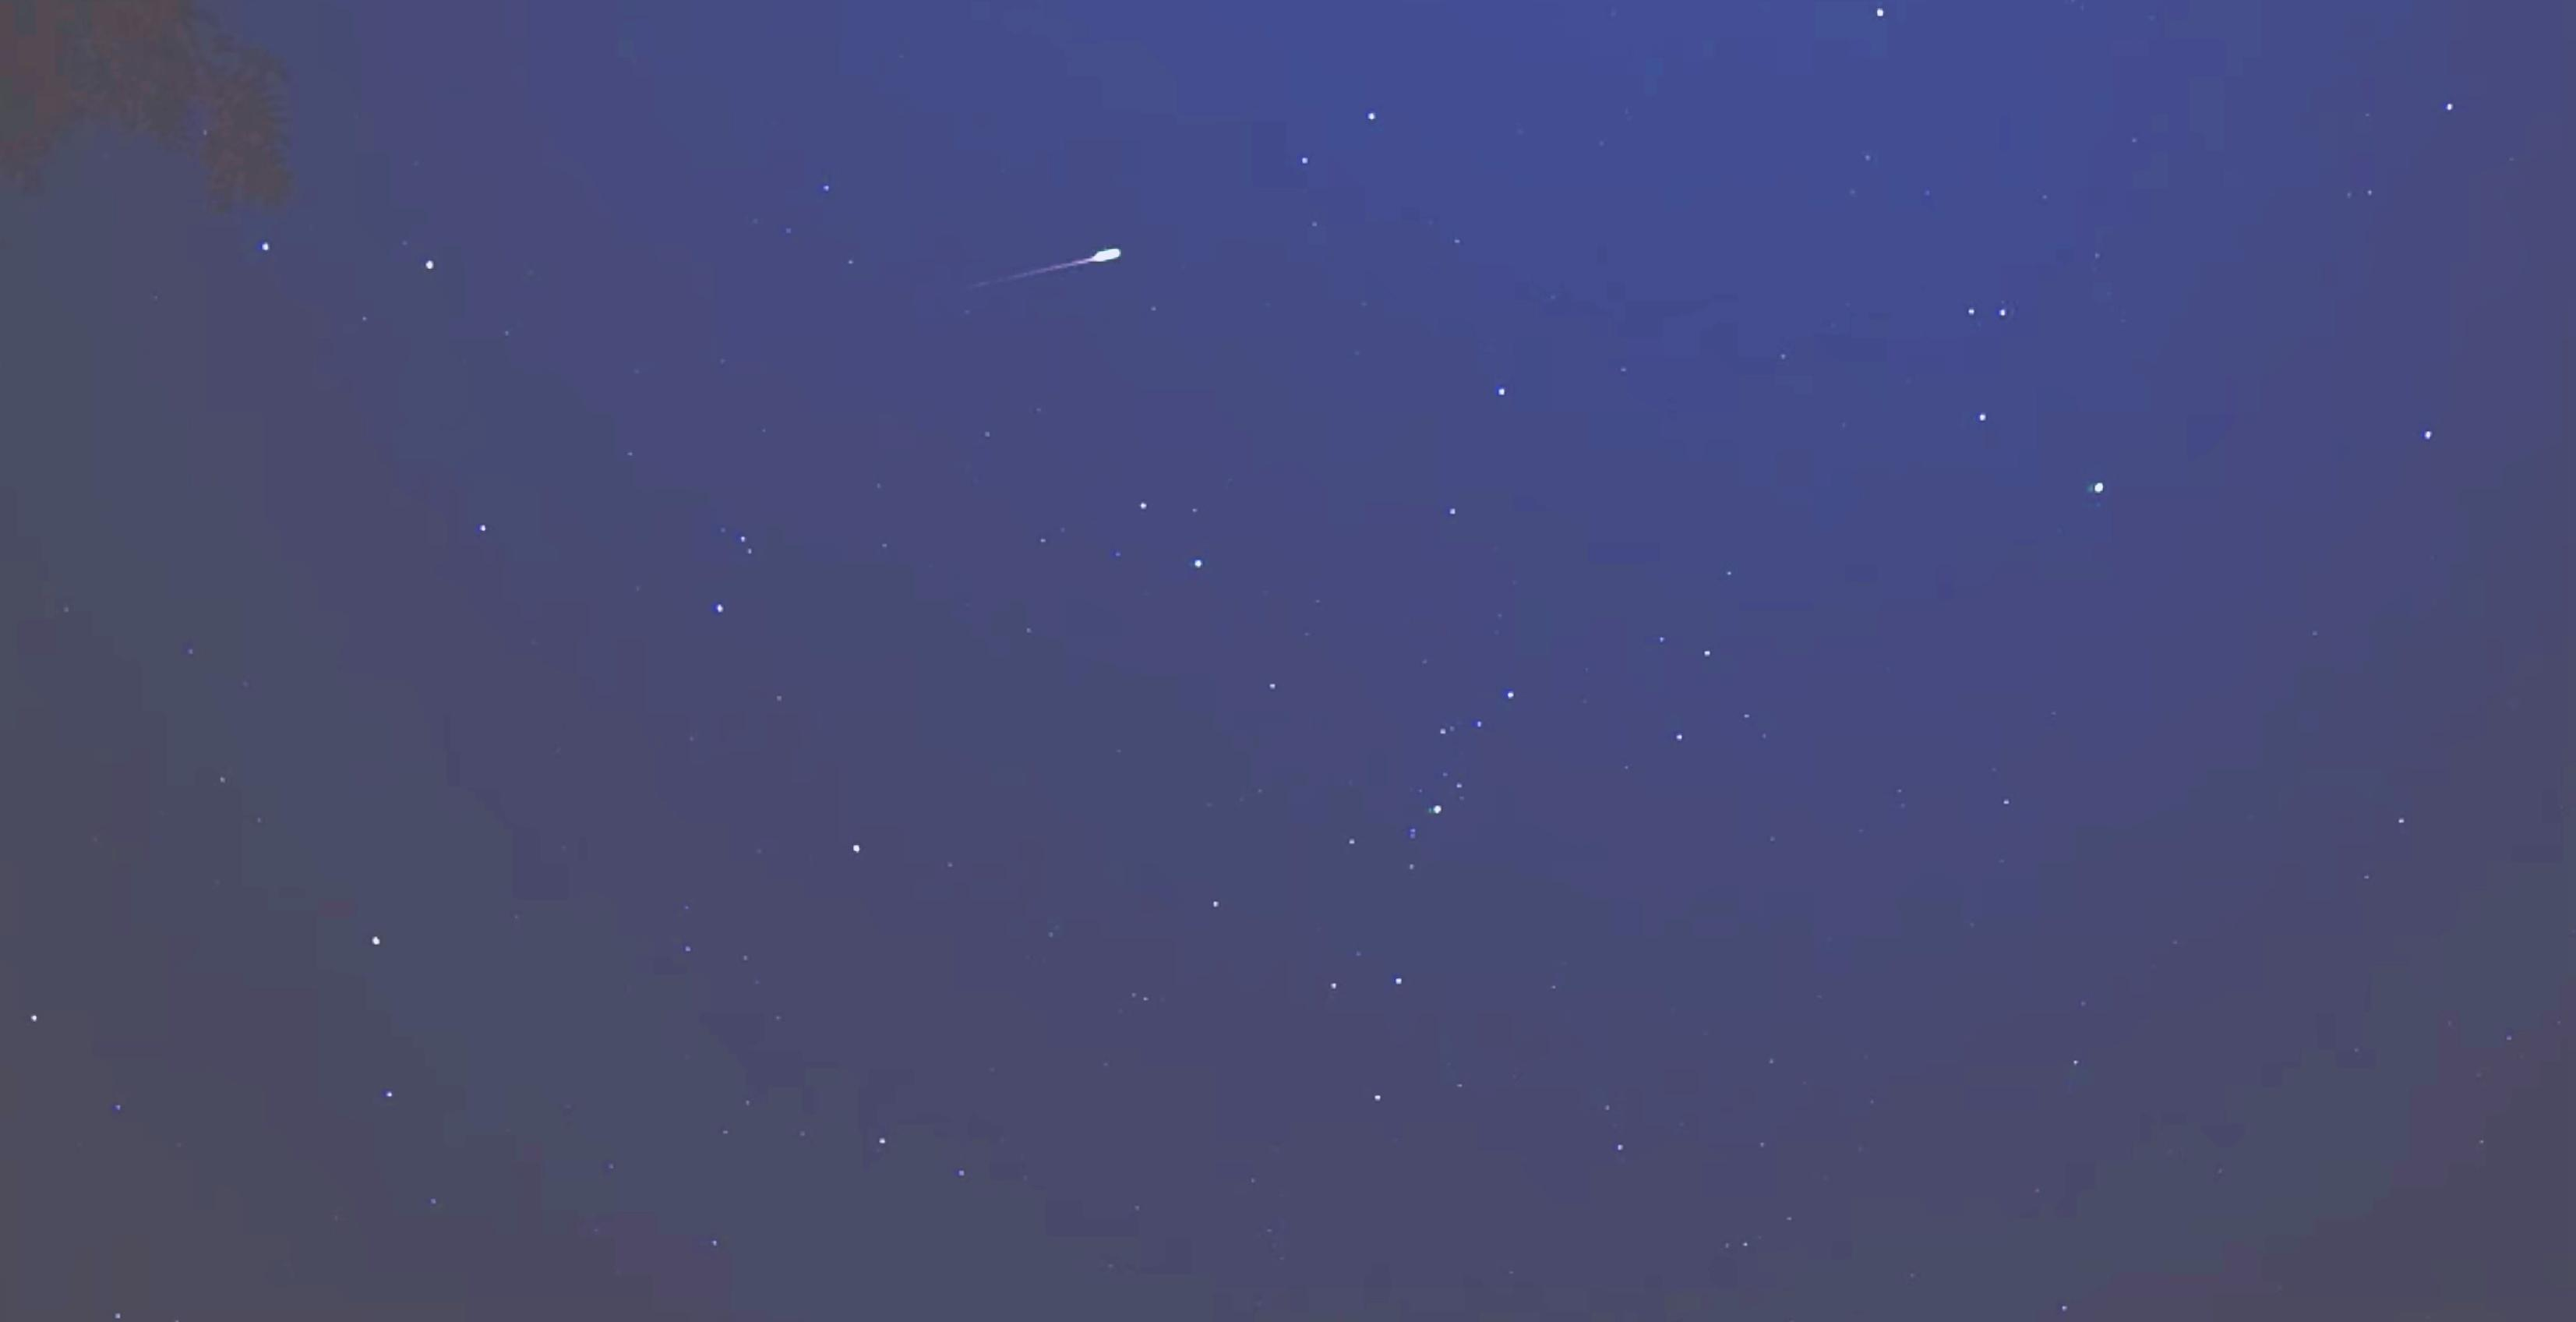meteorite: (915, 234, 1189, 302)
